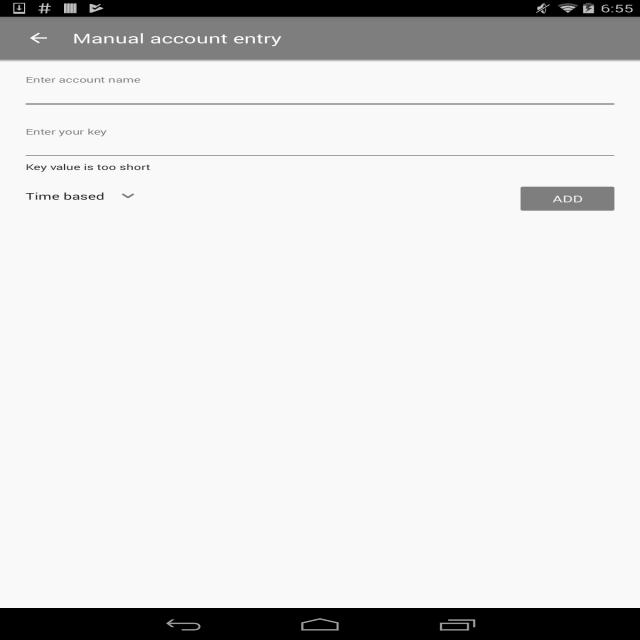Button: (516, 182, 619, 215)
EditText: (21, 83, 619, 109), (21, 135, 619, 161)
ImageButton: (9, 17, 68, 59)
Spinner: (8, 177, 141, 215)
TextView: (73, 29, 282, 47), (26, 162, 150, 172), (26, 190, 104, 202)
